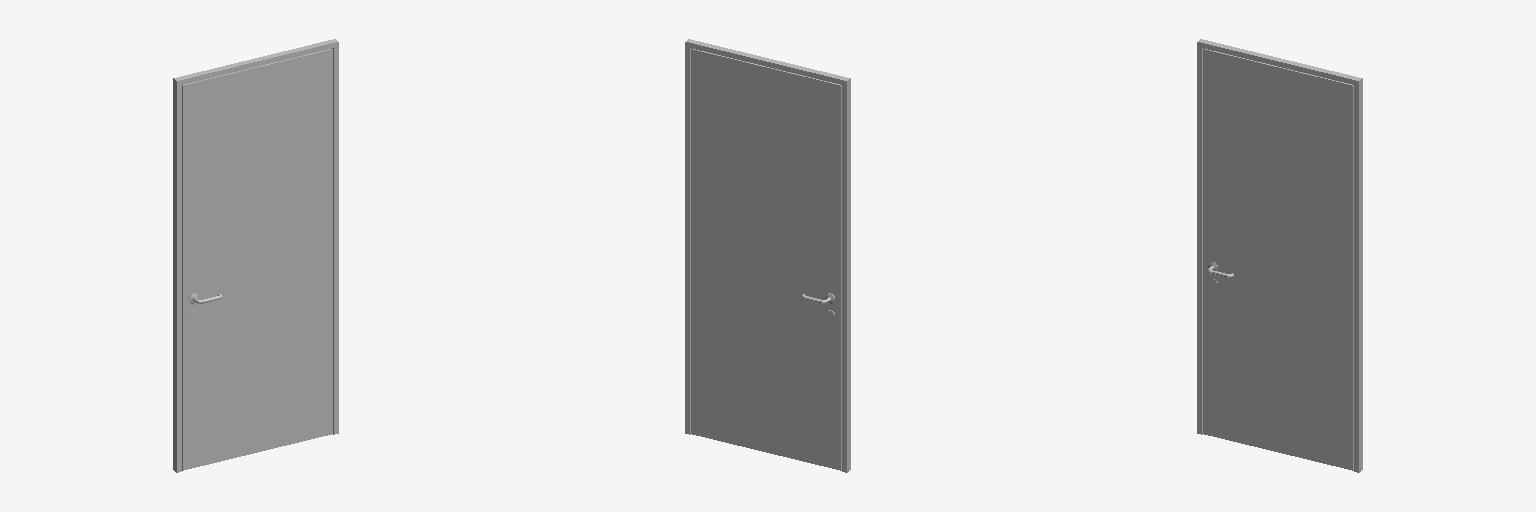
Rendered from Doors - Single - 1.obj.
The picture shows the model from 3 angles: view 1: azimuth 30°, elevation 25°; view 2: azimuth 150°, elevation 25°; view 3: azimuth 330°, elevation 25°; orthographic projection.
Parts seen in each view (by area): view 1: object1, object4; view 2: object1, object4; view 3: object1, object4.
Boxes of the visible parts, x1,y1,x2,y2 form: object1: [182, 49, 332, 470]; object4: [173, 39, 338, 472]; object1: [691, 49, 841, 470]; object4: [685, 39, 850, 472]; object1: [1203, 49, 1353, 470]; object4: [1197, 39, 1362, 472].
Size of the model in its own units: 49.5 by 115 by 9.